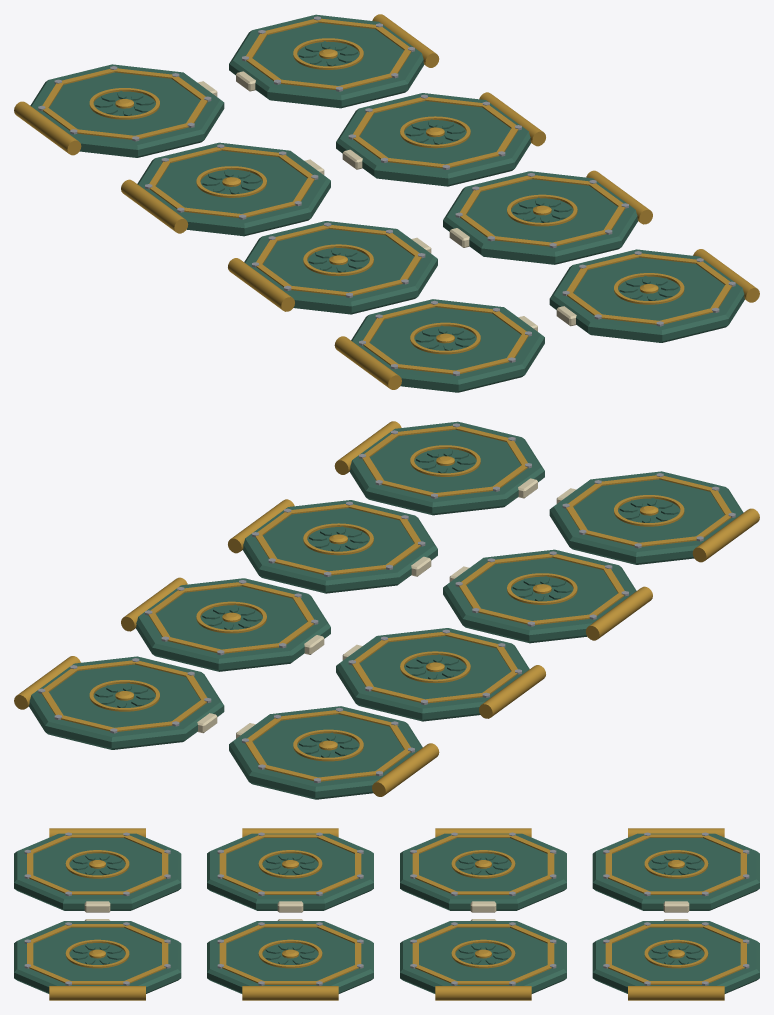
The model's file is vls8_hatches.obj.
The picture shows the model from 3 angles, top to bottom: view 1: azimuth 30°, elevation 25°; view 2: azimuth 150°, elevation 25°; view 3: azimuth 270°, elevation 25°; orthographic projection. The views are drawn at different scales.
Parts seen in each view (by area): view 1: vls8_hatches; view 2: vls8_hatches; view 3: vls8_hatches.
Boxes of the visible parts, left/top/right/bottom form: vls8_hatches: left=14, top=14, right=759, bottom=392; vls8_hatches: left=14, top=421, right=759, bottom=799; vls8_hatches: left=14, top=828, right=759, bottom=1000.
Bounding box in the file's own units: 2.41 × 0.1028 × 4.64.
